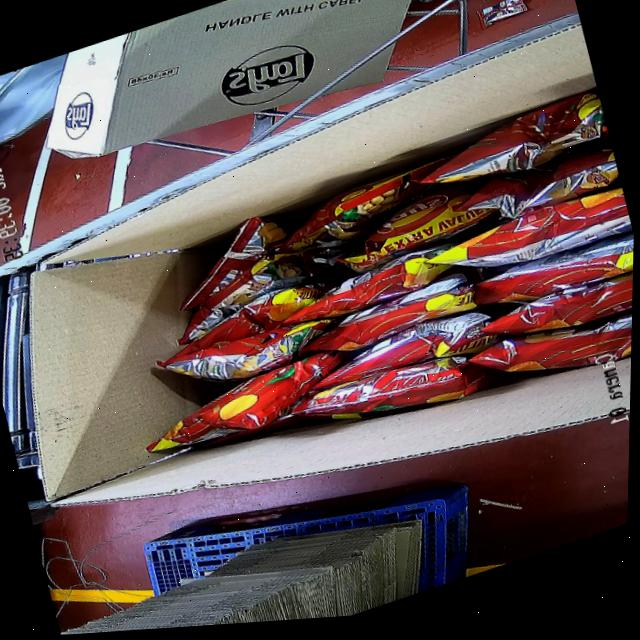MASALA: (91, 83, 637, 514)
